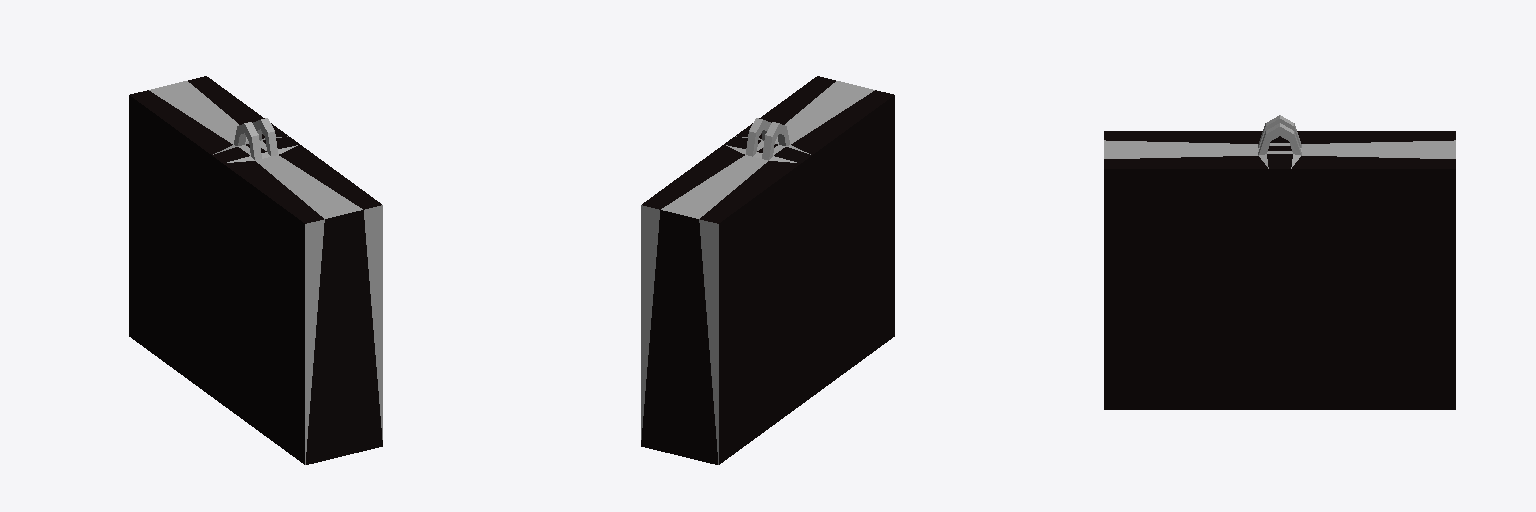
File: mala.obj
3 views of the same model, side by side, from view 1: azimuth 30°, elevation 25°; view 2: azimuth 150°, elevation 25°; view 3: azimuth 270°, elevation 25° (orthographic).
Parts seen in each view (by area): view 1: Cube_Cube; view 2: Cube_Cube; view 3: Cube_Cube.
Part boxes in pixels (x1,y1,x2,y2): Cube_Cube: (129,76,382,464); Cube_Cube: (641,76,894,464); Cube_Cube: (1104,115,1455,409).
Bounding box in the file's own units: 2.38 × 7.95 × 9.39.